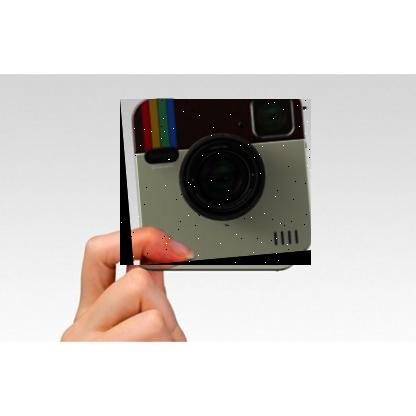Camera: (121, 100, 313, 267)
